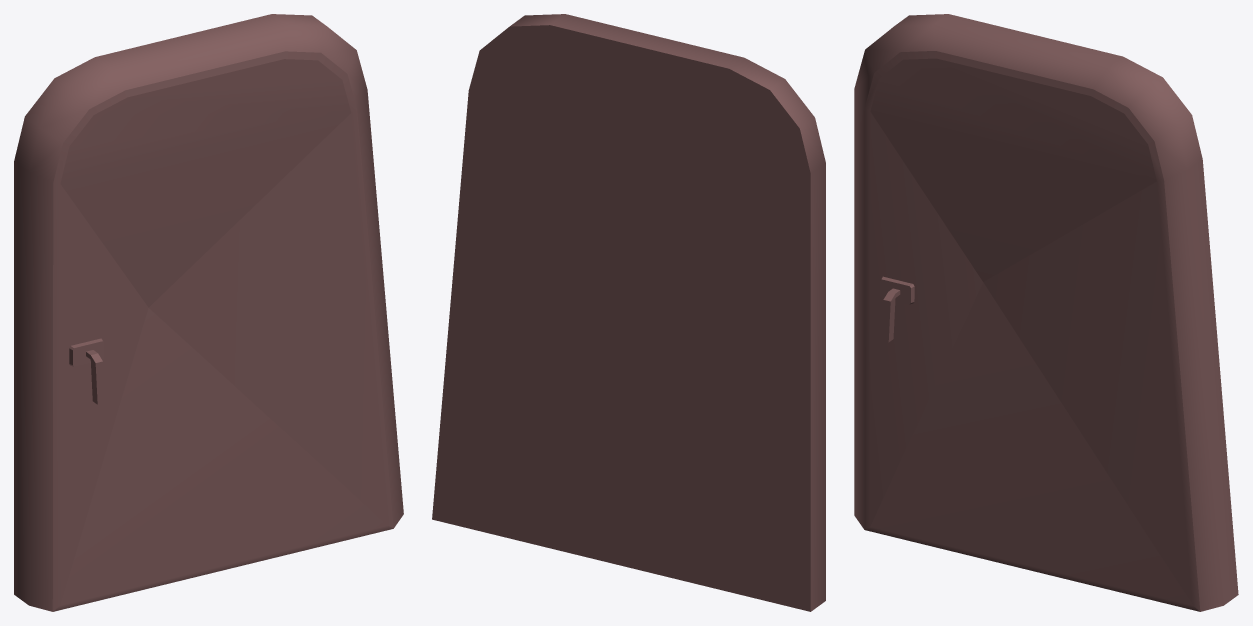
The picture shows the model from 3 angles, left to right: view 1: azimuth 30°, elevation 25°; view 2: azimuth 150°, elevation 25°; view 3: azimuth 330°, elevation 25°; orthographic projection. The views are drawn at different scales.
Parts seen in each view (by area): view 1: SM_H4_D4; view 2: SM_H4_D4; view 3: SM_H4_D4.
Boxes of the visible parts, x1,y1,x2,y2 form: SM_H4_D4: [14, 14, 403, 611]; SM_H4_D4: [432, 14, 825, 611]; SM_H4_D4: [854, 14, 1238, 611].
Bounding box in the file's own units: 203 × 31.53 × 271.
Materials: 1 (1 with a texture image).
